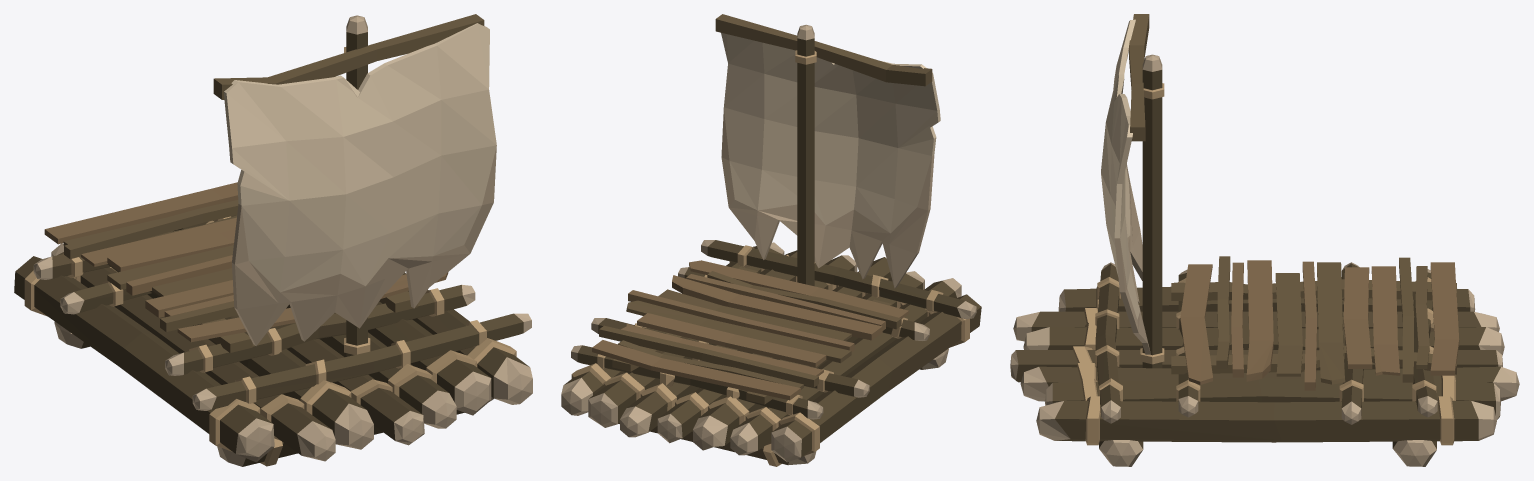
File: SM_Prop_Raft_01.glb
The picture shows the model from 3 angles, left to right: view 1: azimuth 30°, elevation 25°; view 2: azimuth 150°, elevation 25°; view 3: azimuth 270°, elevation 25°; orthographic projection. The views are drawn at different scales.
Visible parts, largest first — view 1: SM_Prop_Raft_01_part00; view 2: SM_Prop_Raft_01_part00; view 3: SM_Prop_Raft_01_part00.
Boxes of the visible parts, bbox=[...] form: SM_Prop_Raft_01_part00: bbox=[14, 14, 532, 466]; SM_Prop_Raft_01_part00: bbox=[561, 14, 981, 466]; SM_Prop_Raft_01_part00: bbox=[1010, 14, 1519, 466].
Size of the model in its own units: 3.65 by 4.16 by 5.22.
Materials: 1 (1 with a texture image).
